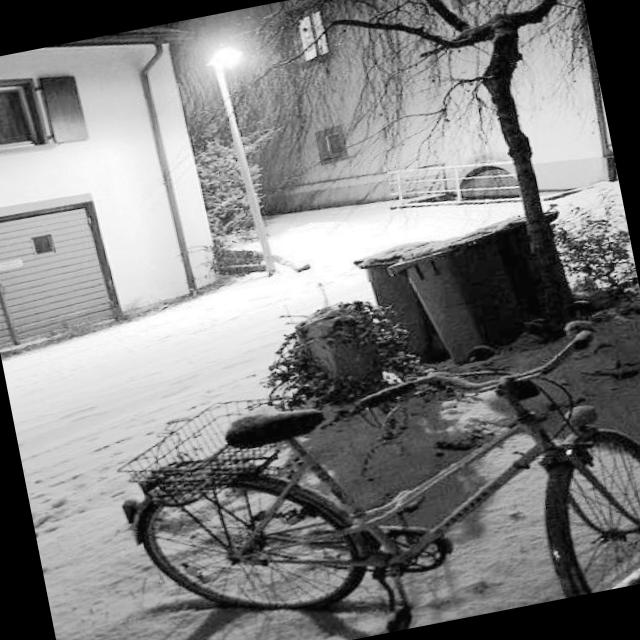Bicycle: (87, 291, 640, 640)
Tree: (376, 0, 629, 323)
